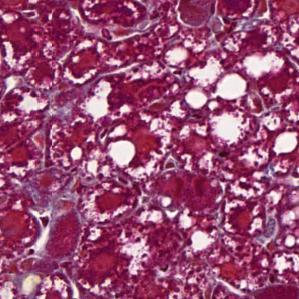steatosis: (205, 112, 246, 146), (107, 138, 136, 171), (216, 72, 248, 101), (184, 80, 210, 115), (273, 128, 299, 159)
